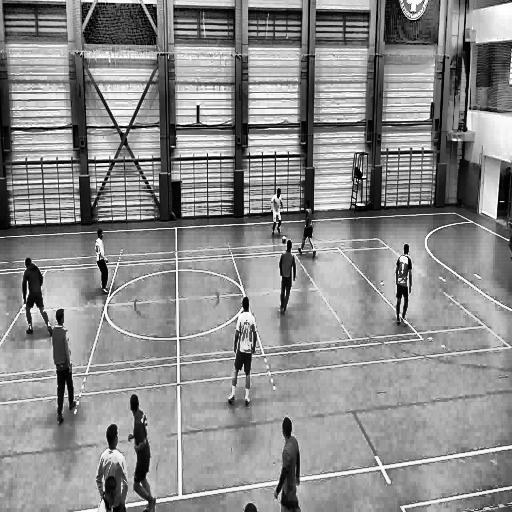ball: (281, 233, 288, 246)
player: (225, 296, 257, 408), (128, 390, 154, 512), (51, 307, 77, 427), (96, 423, 128, 512), (274, 418, 301, 512), (22, 256, 53, 336), (395, 245, 414, 329), (279, 240, 297, 316), (298, 198, 318, 260), (94, 228, 110, 296), (97, 478, 118, 512), (270, 185, 283, 237)
